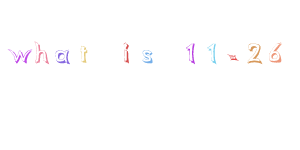-: (226, 52, 240, 64)
1: (183, 39, 198, 66), (205, 40, 219, 64)
2: (245, 41, 263, 66)
6: (268, 41, 283, 64)
a: (54, 47, 71, 66)
h: (32, 39, 50, 65)
i: (119, 41, 133, 64)
s: (140, 48, 155, 65)
t: (78, 45, 88, 65)
w: (6, 44, 32, 64)
